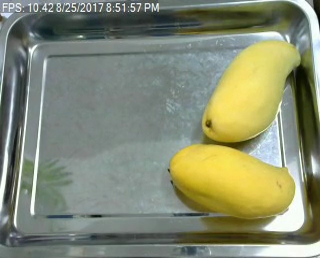Mango: (197, 29, 297, 147), (165, 140, 300, 222)
